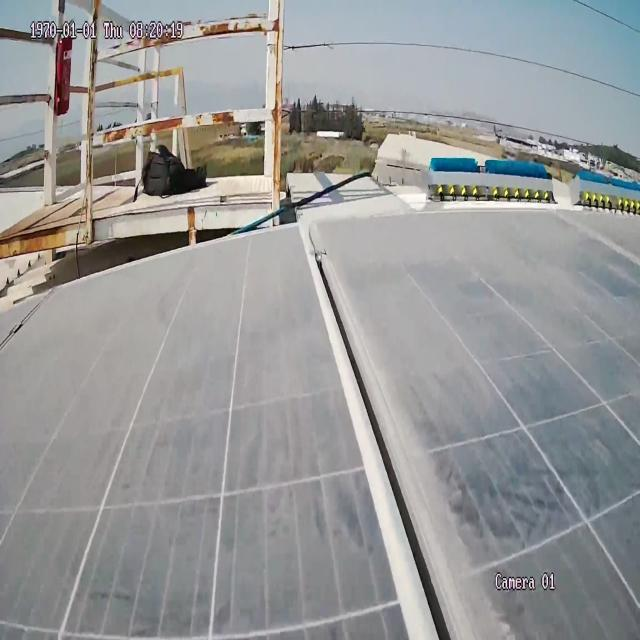interior panel: (279, 210, 558, 640)
